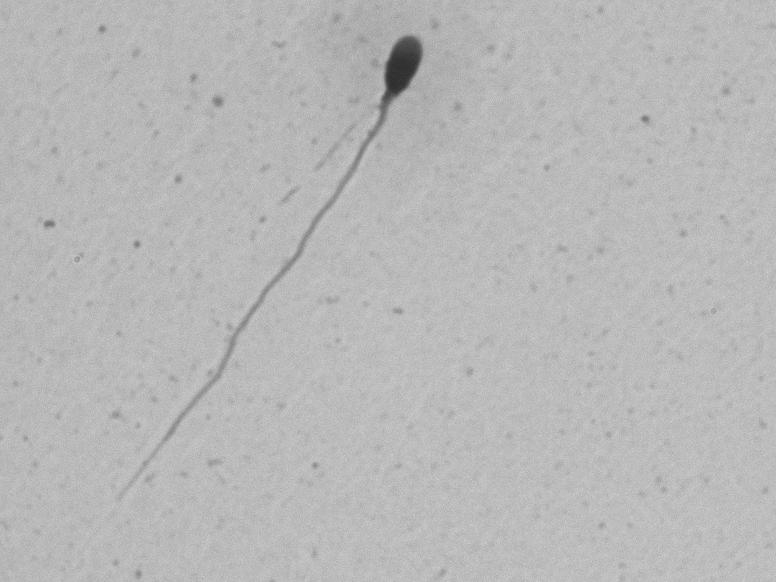Normal: (97, 26, 471, 512)
